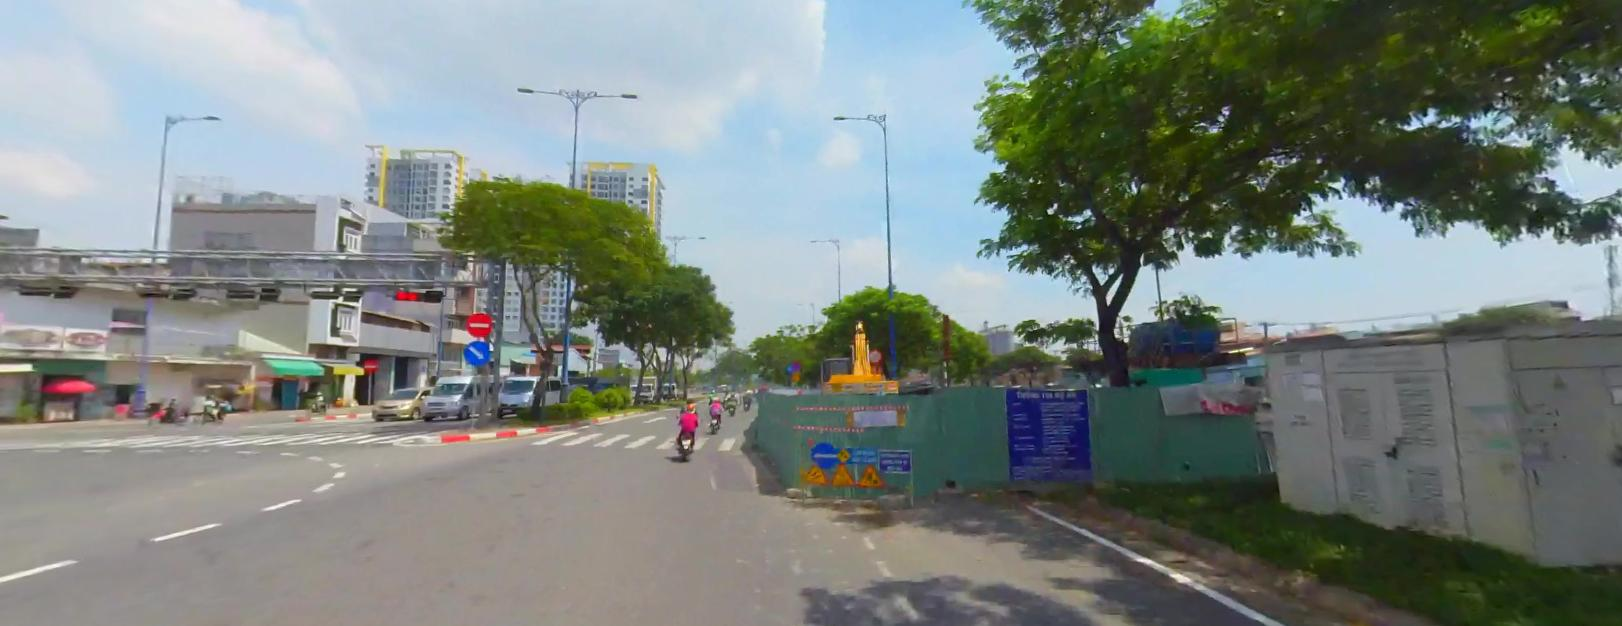Cam con lai: (866, 345, 883, 361)
Cam dung va do: (791, 359, 801, 369)
Cam nguoc chieu: (466, 310, 492, 335), (362, 357, 377, 371)
Hieu lenh: (463, 338, 490, 362)
Nguy hiem: (791, 371, 800, 379)
